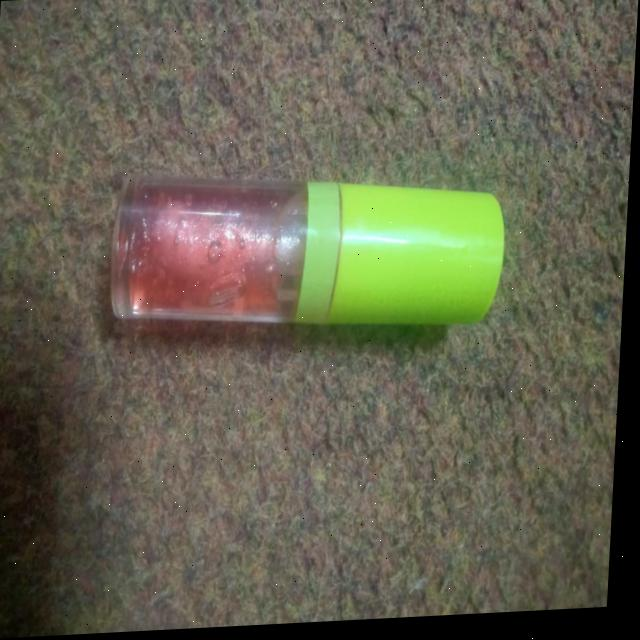lip gloss: (96, 124, 549, 390)
